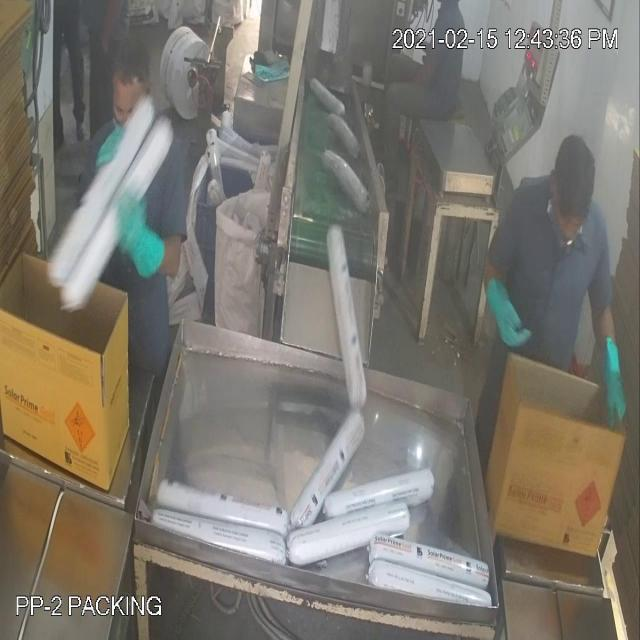Gloves: (32, 94, 615, 382)
